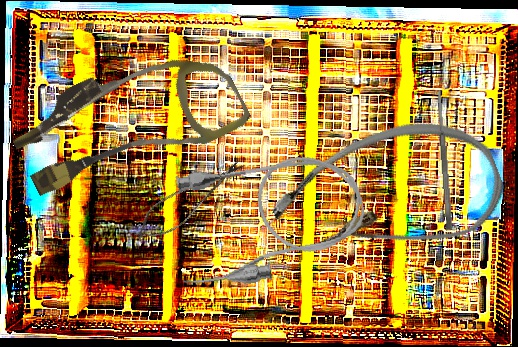Cannula: (2, 20, 254, 223), (260, 97, 515, 296), (163, 141, 374, 297)
Micro Scissor: (126, 148, 251, 252)
Spatula Surgical: (435, 89, 454, 231)
